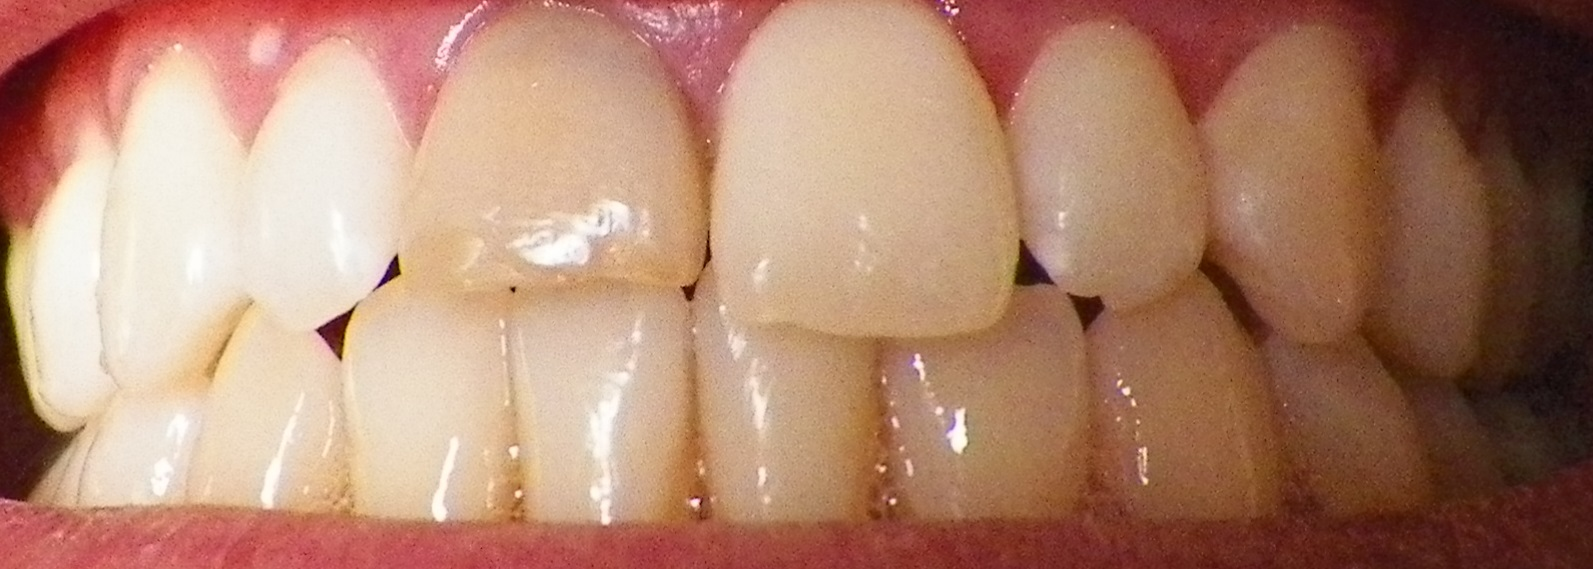boca: (1, 30, 1541, 516)
